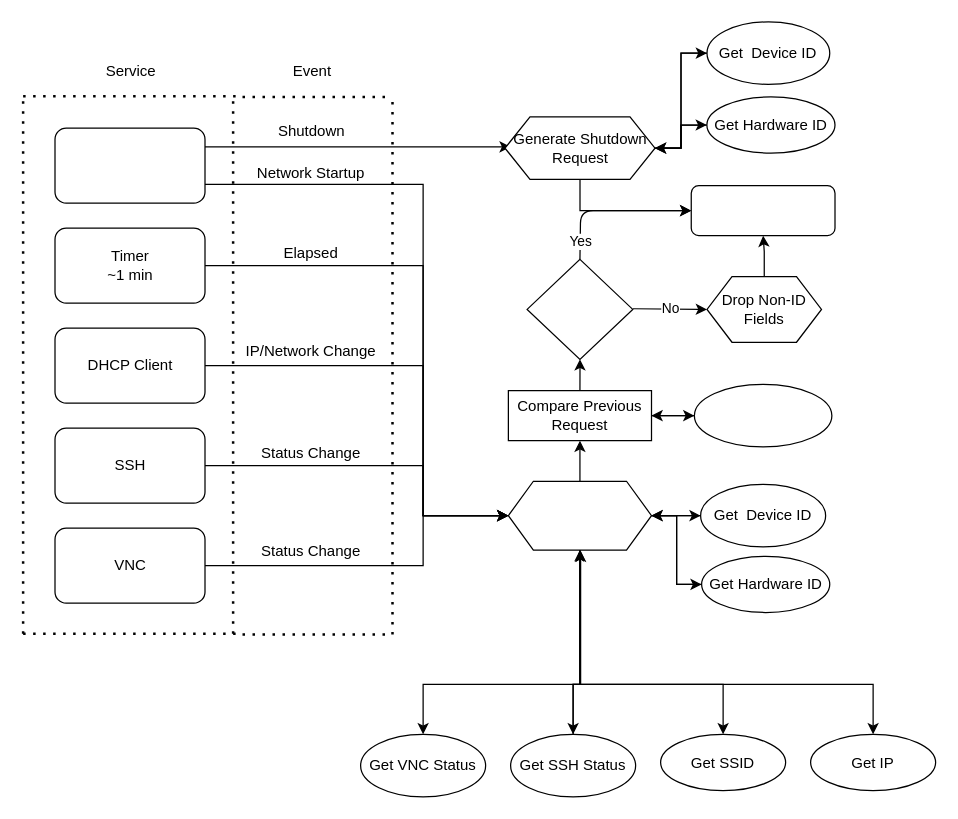
This 958x819 diagram has some shape labels left out. Each missing label, with the centre of its shape:
Generate Request: point (579, 515)
Get Previous Request: point (762, 415)
Request Changed: point (579, 308)
Send HTTP POST: point (762, 210)
System: point (129, 165)
